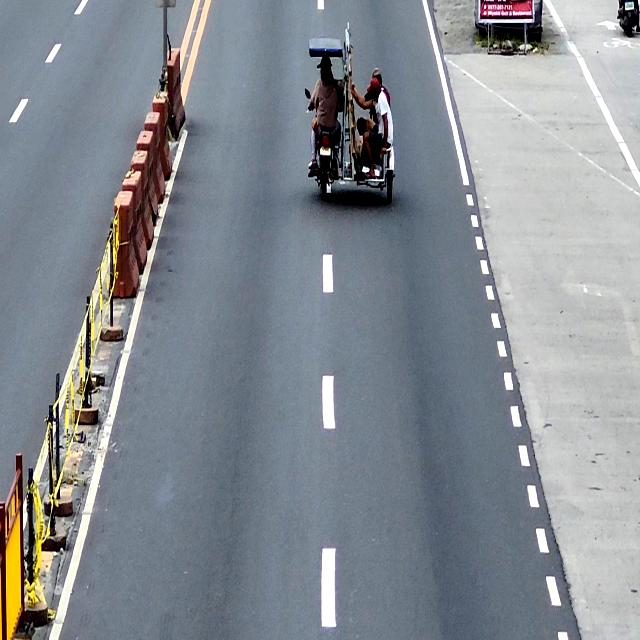License-Plate: (319, 146, 332, 156)
Tricycle: (308, 37, 395, 204)
